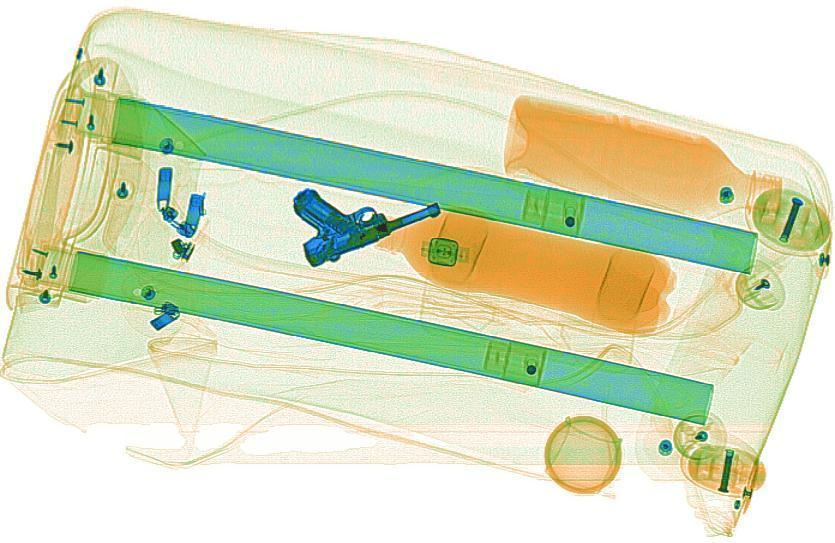Gun: (246, 153, 451, 267)
